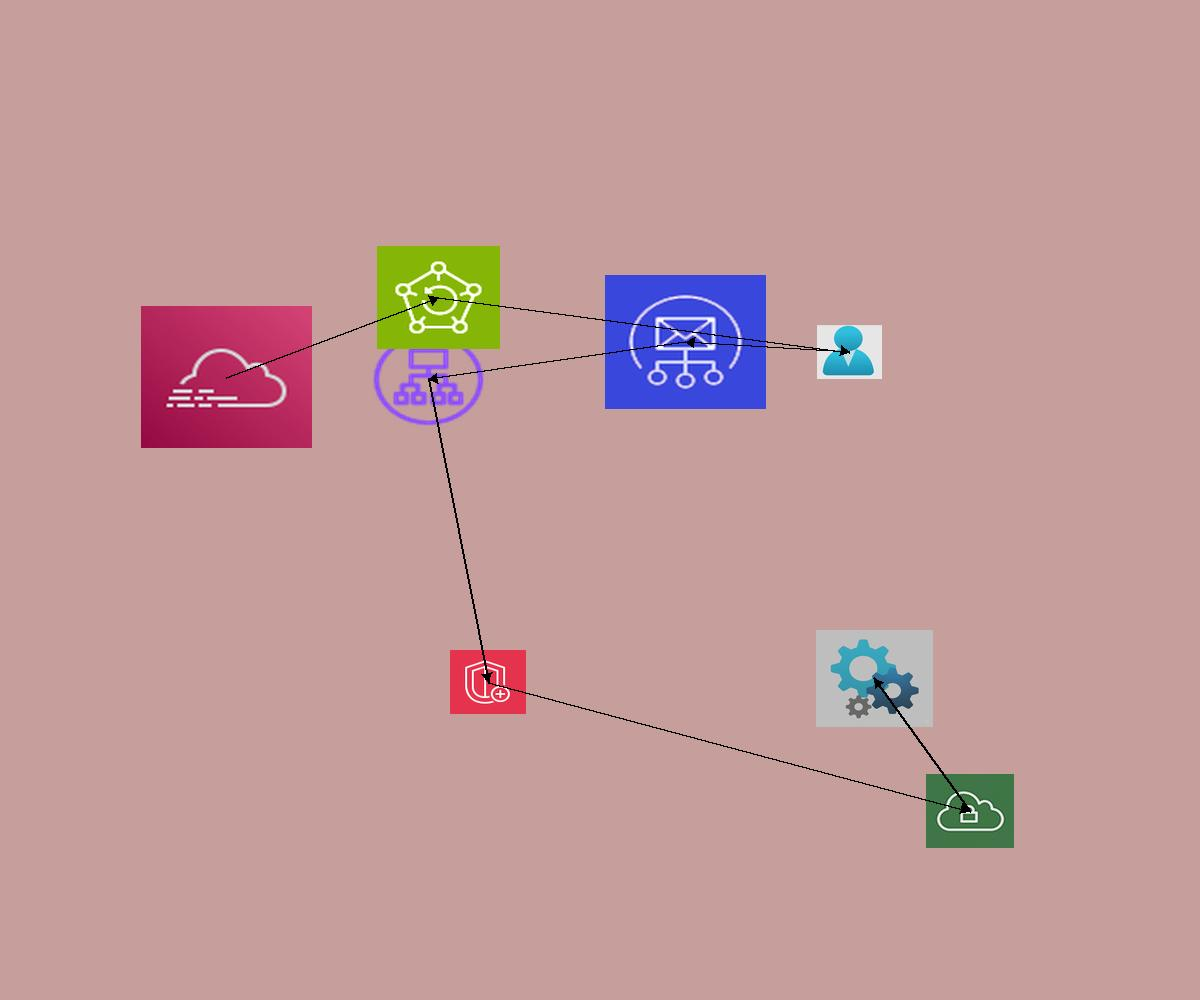AWS-Backup: (377, 246, 500, 349)
AWS-CloudTrail: (141, 306, 312, 448)
AWS-Private_vpc: (926, 774, 1014, 848)
AWS-Res_Elastic-Load-Balancing_Application-Load-Balancer: (369, 330, 488, 429)
AWS-Shield: (450, 650, 526, 714)
AWS-Simple-Email-Service: (605, 275, 766, 409)
Azure_api: (816, 630, 933, 727)
Azure_users: (817, 325, 882, 379)
